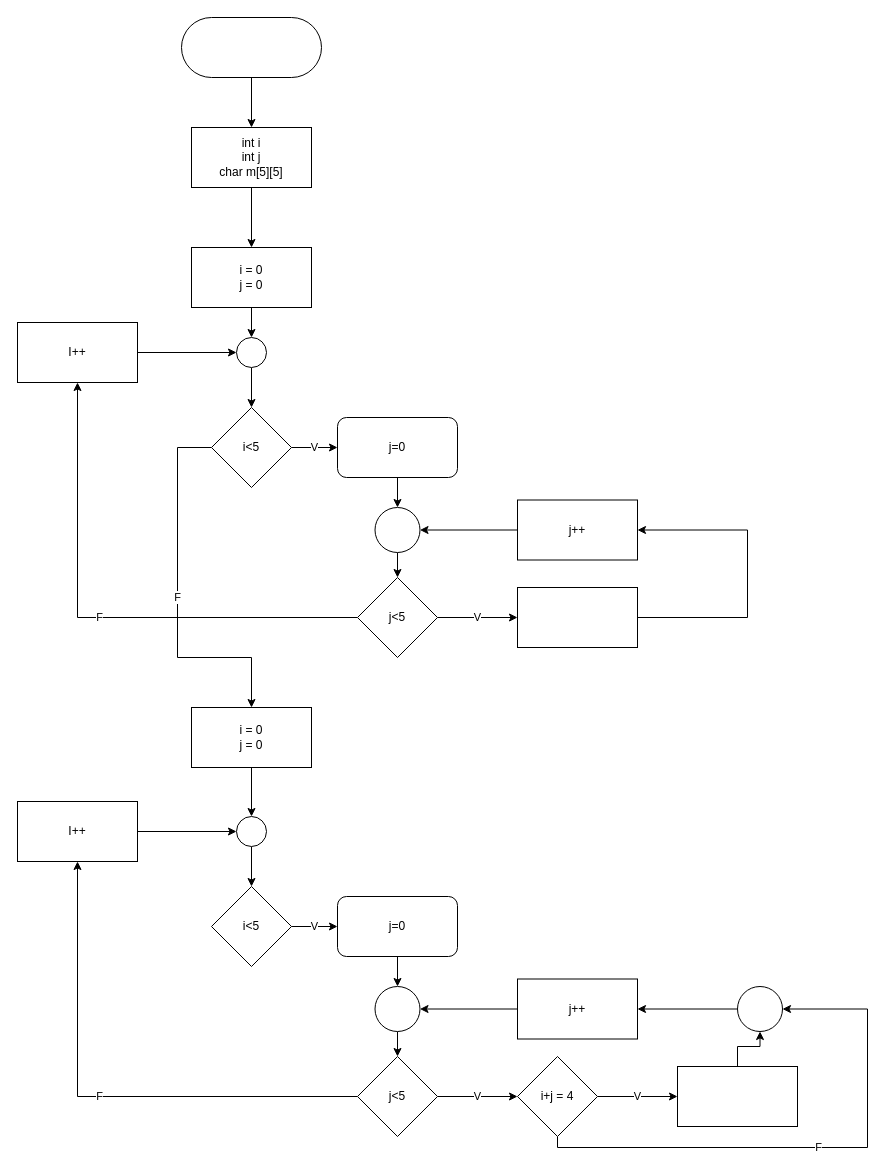
This 893x1173 diagram has some shape labels left out. The shapes that lost their labels are listed below. From the top down, each one's centre as x and y in pixels, then its label:
At [251,47]: "INICIO".
At [577,617]: "m[i][j] = ' '".
At [737,1096]: "m[i][j] = '*'".
